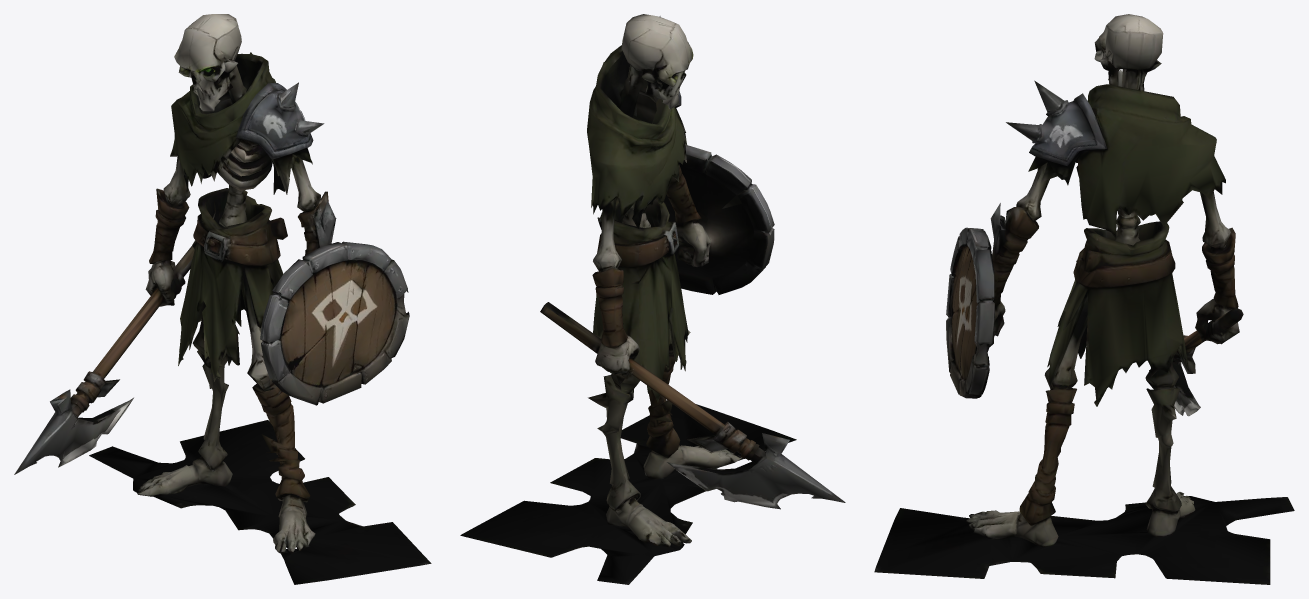
File: esqueleto.glb
3 views of the same model, side by side, from view 1: azimuth 30°, elevation 25°; view 2: azimuth 150°, elevation 25°; view 3: azimuth 270°, elevation 25° (orthographic). The views are drawn at different scales.
Parts seen in each view (by area): view 1: node_0; view 2: node_0; view 3: node_0.
Part boxes in pixels (x1,y1,x2,y2): node_0: [14, 14, 431, 584]; node_0: [460, 14, 845, 584]; node_0: [874, 14, 1294, 584].
Bounding box in the file's own units: 0.5993 × 0.8754 × 0.6584.
1 material, 1 textured.
